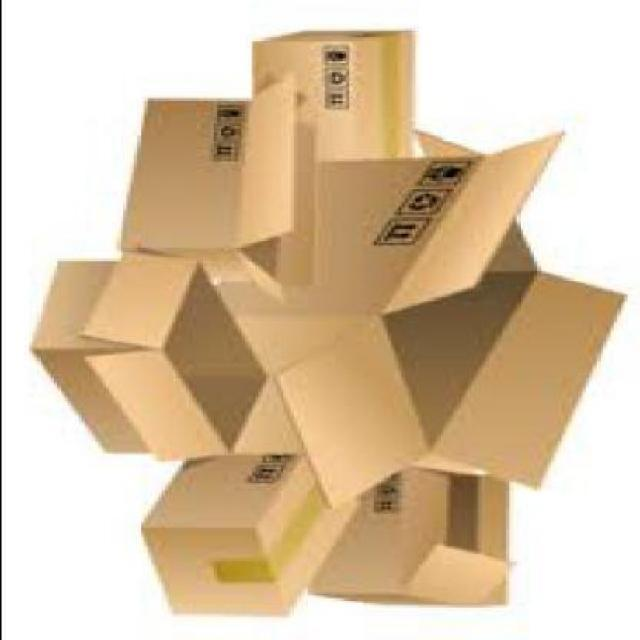box: (229, 134, 629, 512), (33, 252, 276, 465), (122, 77, 331, 305), (143, 456, 365, 619), (320, 468, 518, 608), (254, 33, 417, 159)
